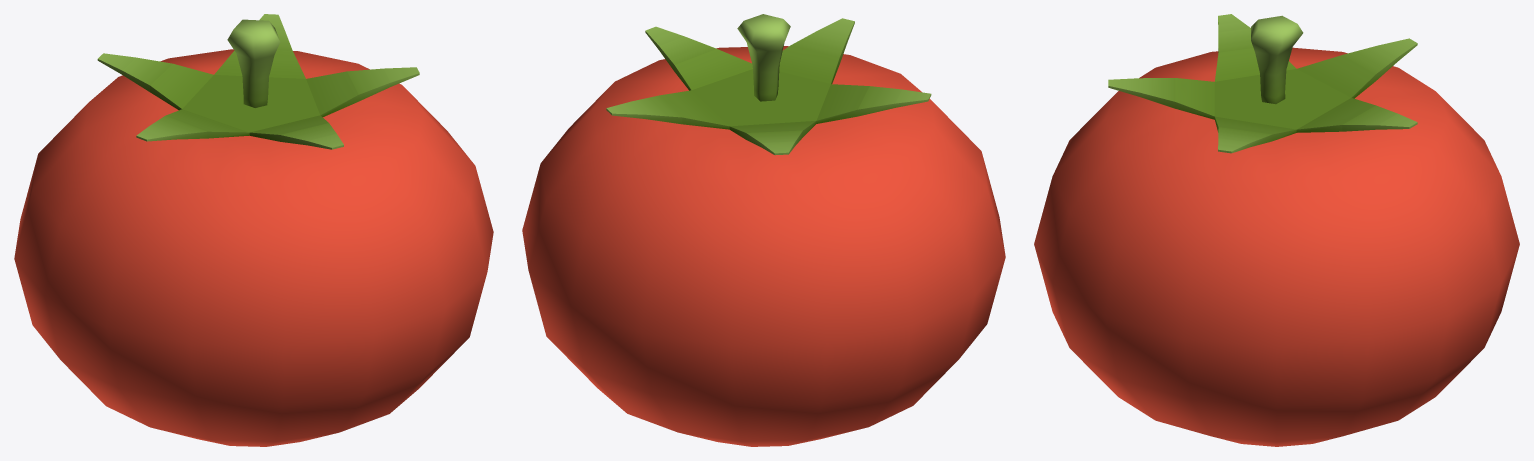
Rendered from WholeTomato.fbx.
3 renders of one model, left to right at view 1: azimuth 30°, elevation 25°; view 2: azimuth 150°, elevation 25°; view 3: azimuth 270°, elevation 25°, orthographic.
Visible parts, largest first — view 1: Tomato; view 2: Tomato; view 3: Tomato.
Part boxes in pixels (box(x1,y1,x2,y2)): Tomato: box(14, 14, 493, 446); Tomato: box(522, 14, 1005, 446); Tomato: box(1034, 14, 1519, 446).
Size of the model in its own units: 0.7033 by 0.6336 by 0.7033.
